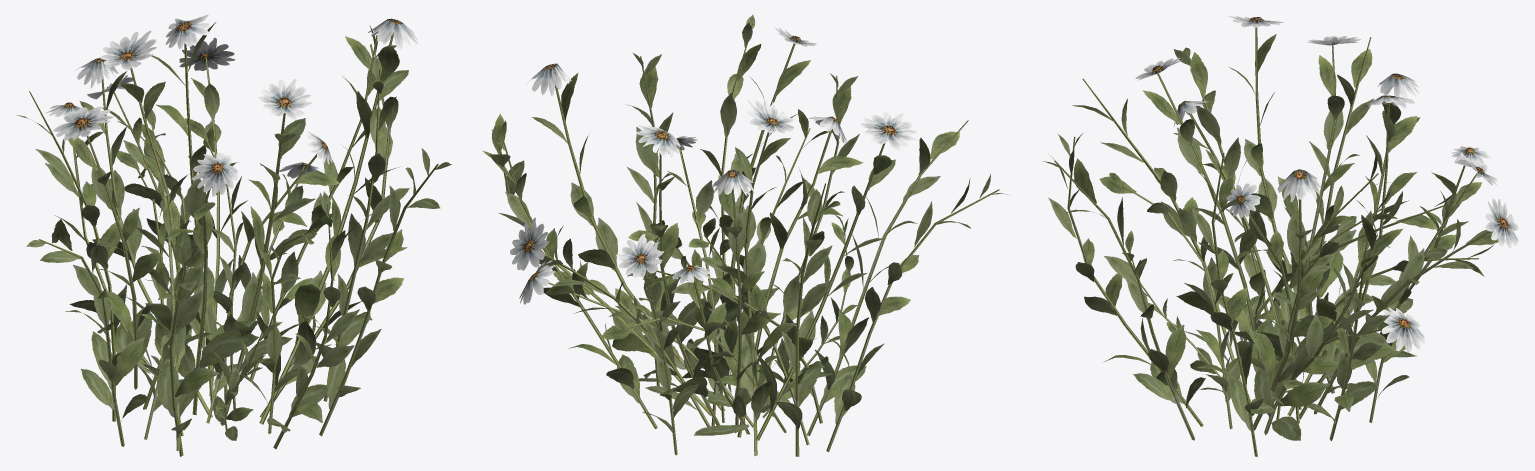
Rendered from sm_DaisyFlowers_01_02.fbx.
The picture shows the model from 3 angles, left to right: view 1: azimuth 30°, elevation 25°; view 2: azimuth 150°, elevation 25°; view 3: azimuth 270°, elevation 25°; orthographic projection. The views are drawn at different scales.
Parts seen in each view (by area): view 1: sm_DaisyFlowers_01_02; view 2: sm_DaisyFlowers_01_02; view 3: sm_DaisyFlowers_01_02.
Part boxes in pixels (left/top/right/bottom): sm_DaisyFlowers_01_02: left=16, top=14, right=451, bottom=456; sm_DaisyFlowers_01_02: left=482, top=14, right=1007, bottom=456; sm_DaisyFlowers_01_02: left=1043, top=16, right=1518, bottom=456.
Size of the model in its own units: 63.58 by 59.56 by 50.79.
